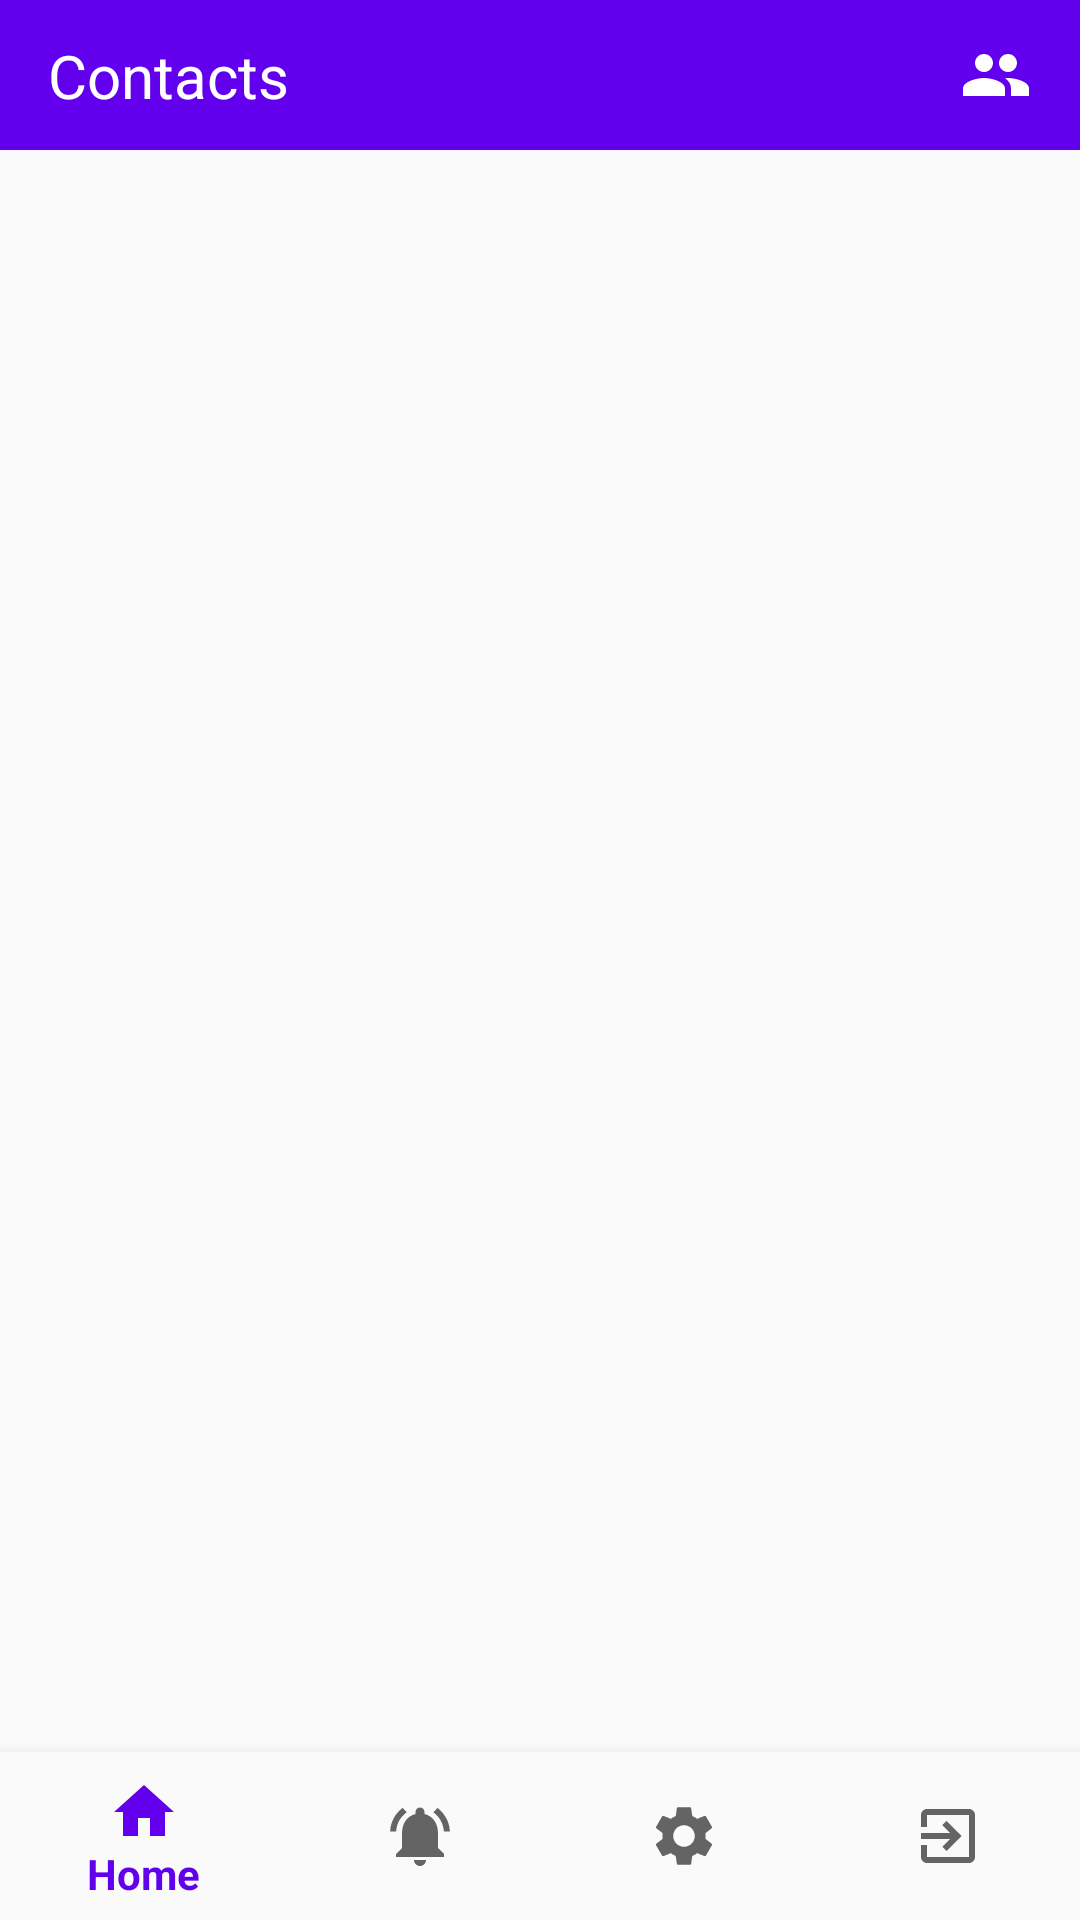

Named icons in this screenshot (1080px x 1920px) and their centers, point (x, y):
image view contacts: point (996, 75)
